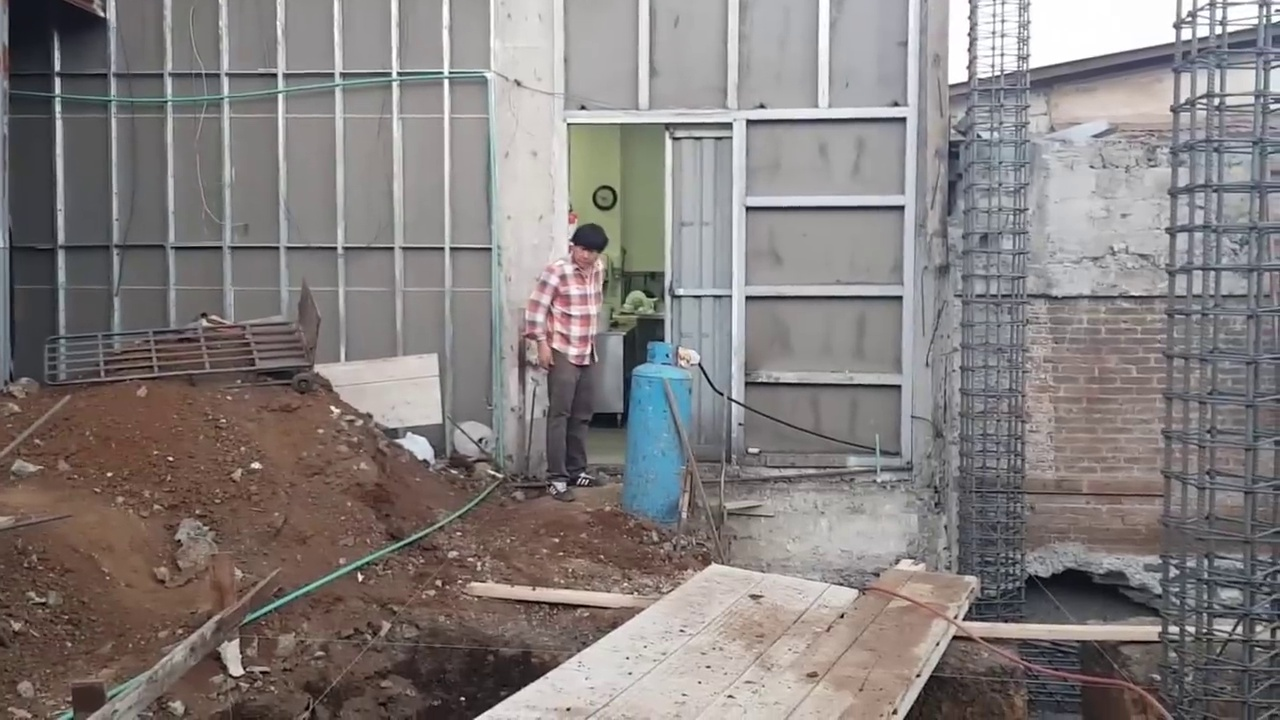helmet-off: (563, 225, 609, 274)
person: (520, 221, 616, 509)
